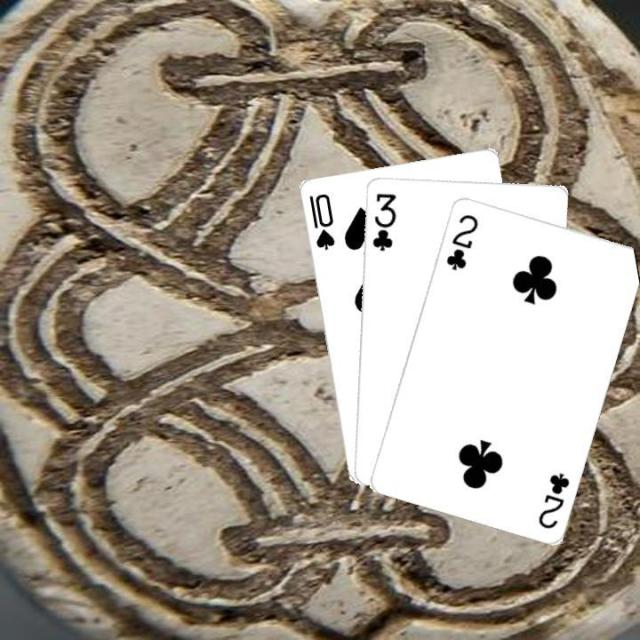10S: (304, 190, 336, 252)
2C: (442, 210, 480, 272), (533, 468, 571, 530)
3C: (368, 188, 397, 252)
